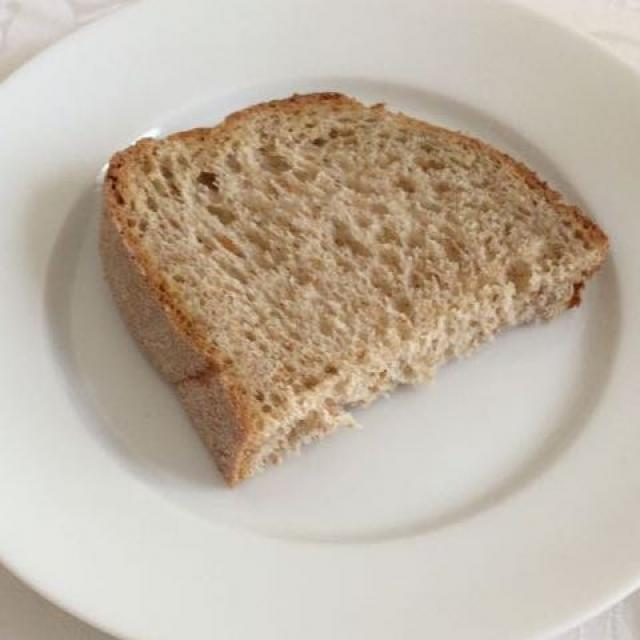bread: (99, 99, 601, 477)
